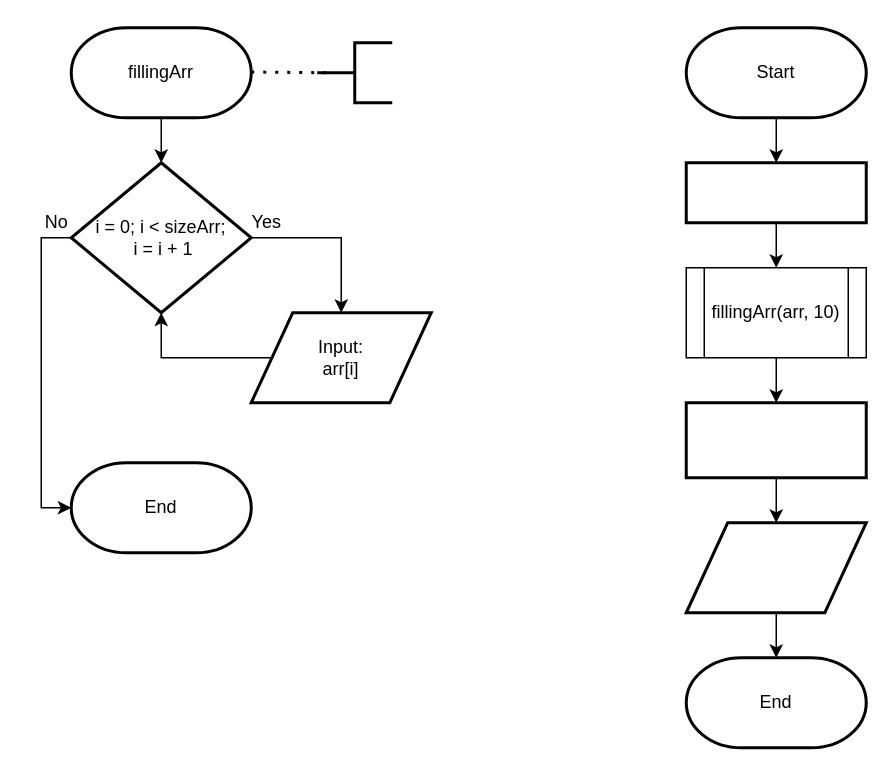
This 893x774 diagram has some shape labels left out. The shapes that lost their labels are listed below. From the top down, each one's centre as x and y in pixels, then its label:
pixel 354 72: Input: arr[], sizeArr
pixel 775 192: arr[10]
pixel 775 439: profit = arr[2] + arr[5]
pixel 775 567: Output: profit
